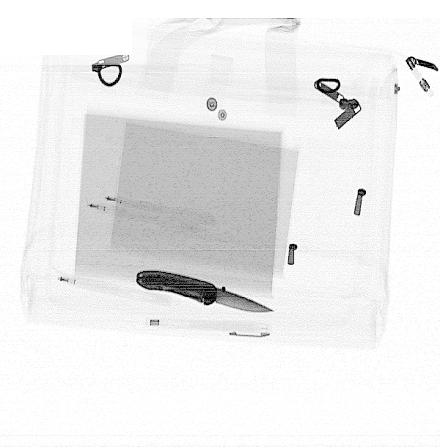Knife: (134, 269, 277, 314)
